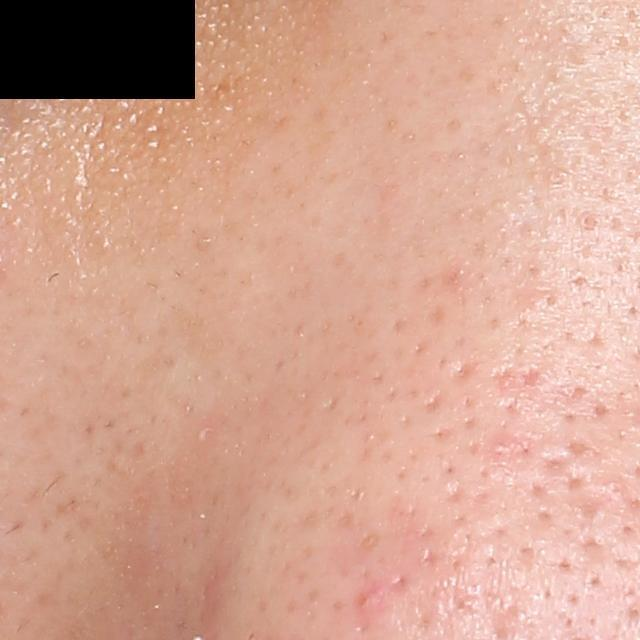atrophic_scar: (446, 356, 486, 384)
